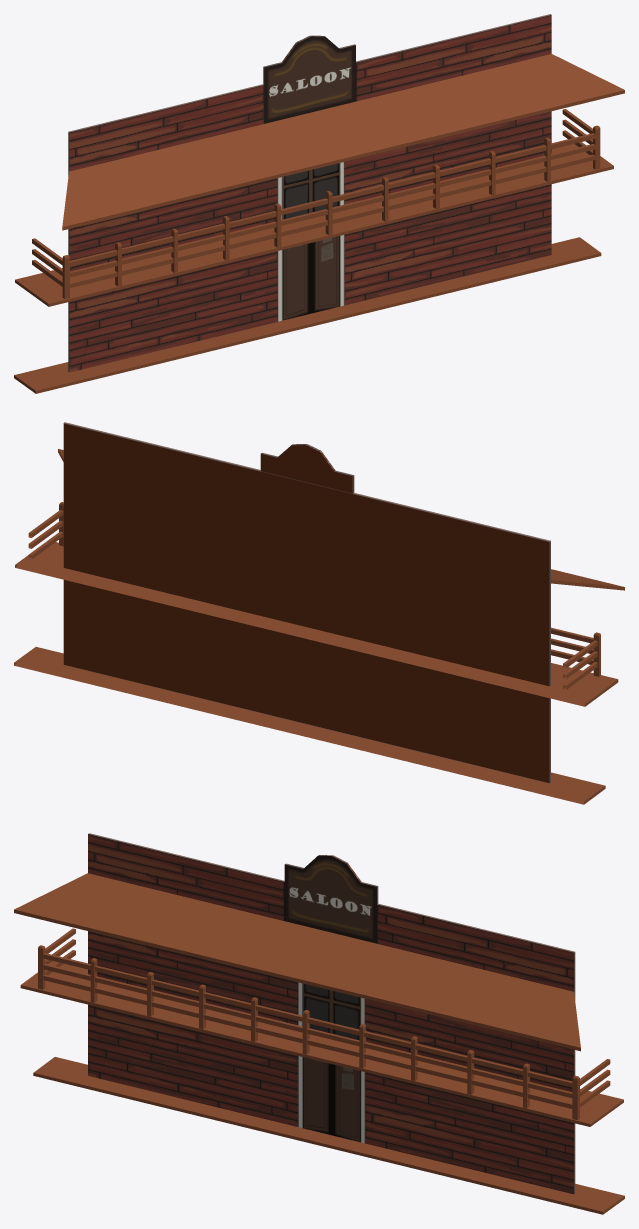
File: SaloonWtexture1.fbx
3 views of the same model, one above another, from view 1: azimuth 30°, elevation 25°; view 2: azimuth 150°, elevation 25°; view 3: azimuth 330°, elevation 25° (orthographic).
Parts seen in each view (by area): view 1: polySurface1, SaloonOverhang1, SaloonBalcony2, SaloonBase1, SaloonBase2; view 2: polySurface1, SaloonBase1, SaloonBase2, SaloonBalcony2, SaloonOverhang1; view 3: polySurface1, SaloonOverhang1, SaloonBalcony2, SaloonBase1, SaloonBase2.
Part boxes in pixels (x1,y1,x2,y2): polySurface1: (68,14,551,372); SaloonOverhang1: (62,54,624,230); SaloonBalcony2: (32,109,600,298); SaloonBase1: (15,144,613,306); SaloonBase2: (14,237,601,393); polySurface1: (63,422,550,783); SaloonBase1: (15,542,618,706); SaloonBase2: (14,647,605,804); SaloonBalcony2: (28,502,600,689); SaloonOverhang1: (58,449,624,590); polySurface1: (88,833,575,1194); SaloonOverhang1: (14,873,580,1051); SaloonBalcony2: (38,928,610,1119); SaloonBase1: (20,961,623,1126); SaloonBase2: (33,1057,624,1214).
Bounding box in the file's own units: 68.31 × 32.28 × 9.29.
Materials: 2 (1 with a texture image).
